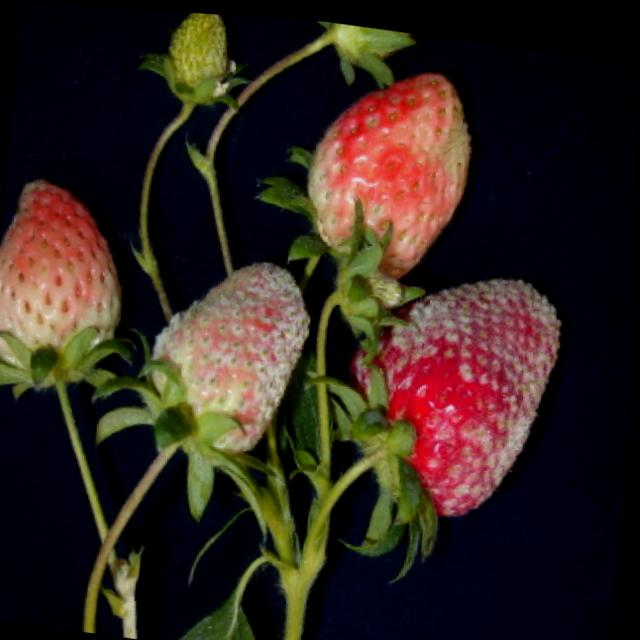Powdery Mildew Fruit: (346, 270, 563, 508), (148, 254, 315, 457)
